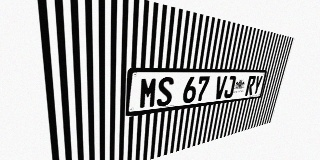6: (182, 76, 198, 104)
7: (195, 76, 210, 102)
J: (223, 76, 236, 99)
M: (139, 77, 158, 109)
R: (245, 75, 256, 96)
S: (156, 77, 174, 107)
V: (213, 76, 227, 100)
Y: (252, 75, 263, 95)
